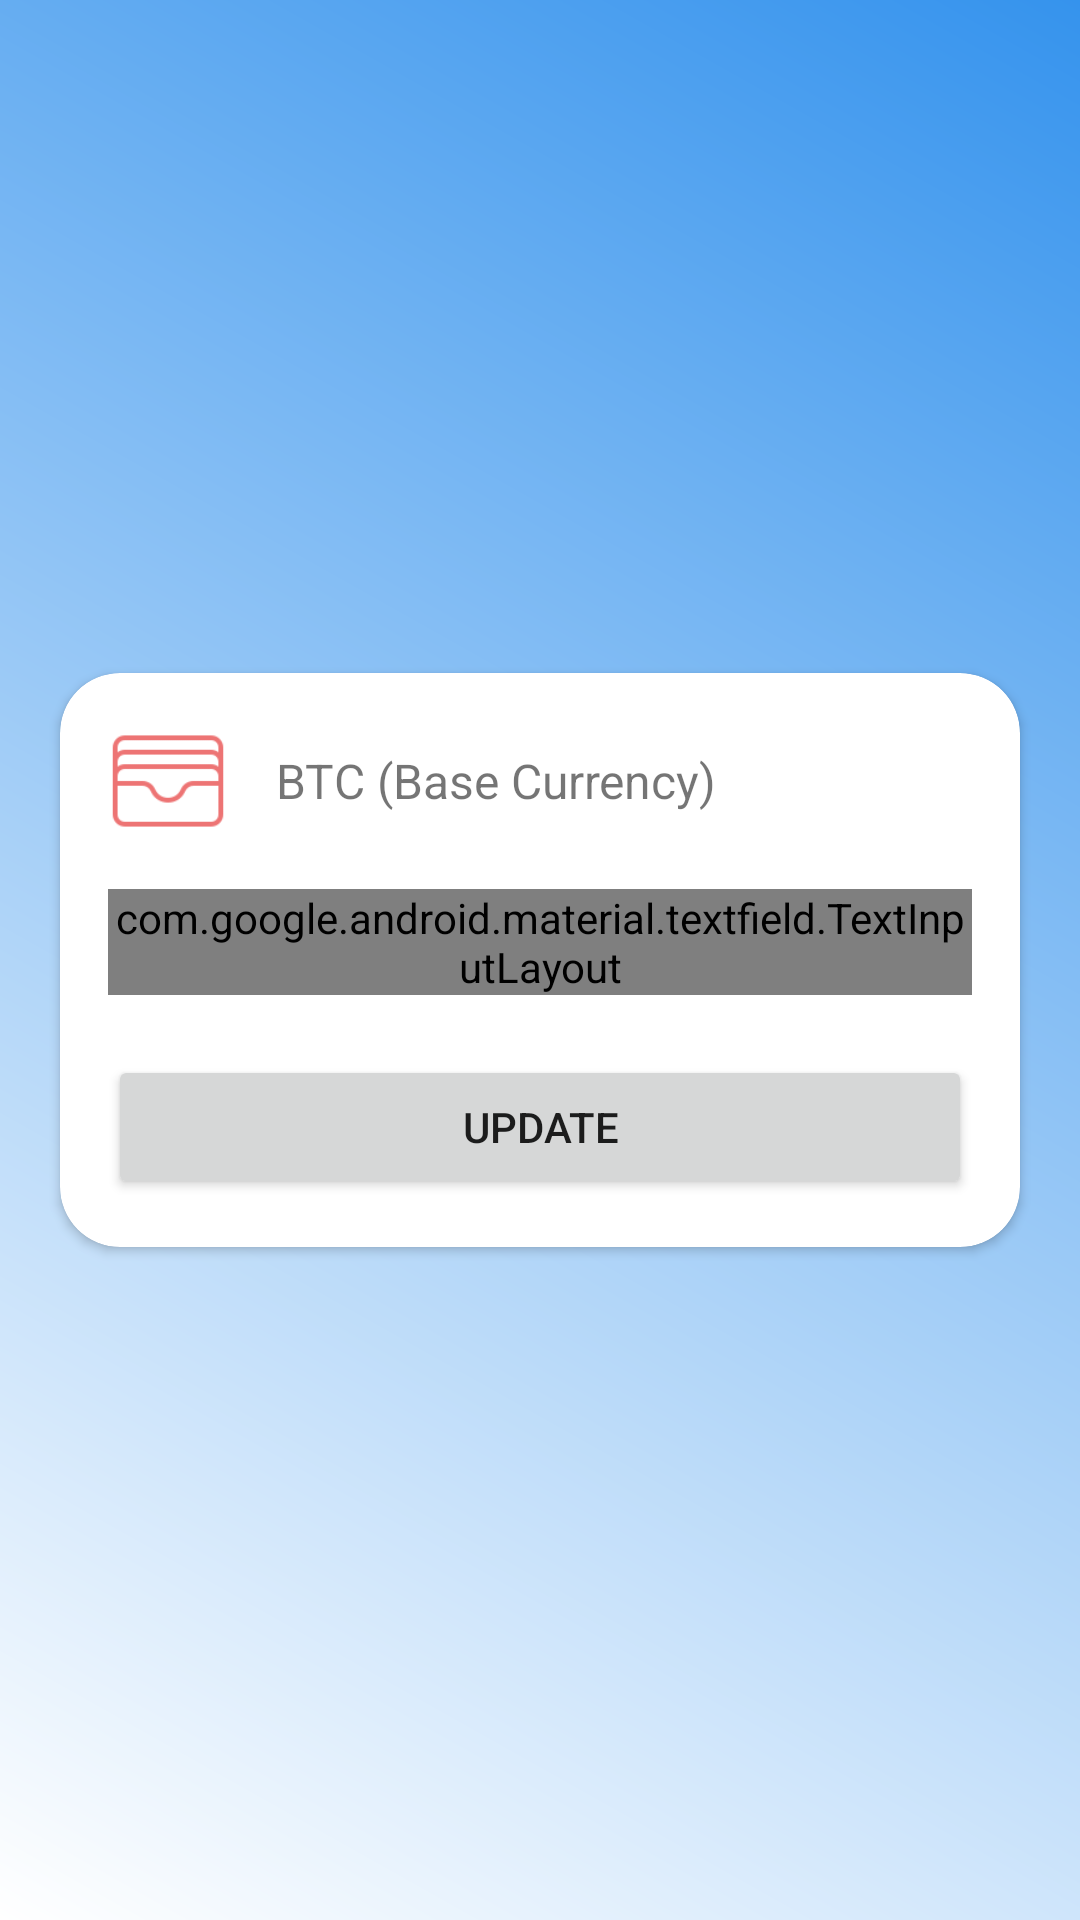

Screen size 1080×1920. Icon name, then its center in pixels as (x,y):
wallet: (168,781)
